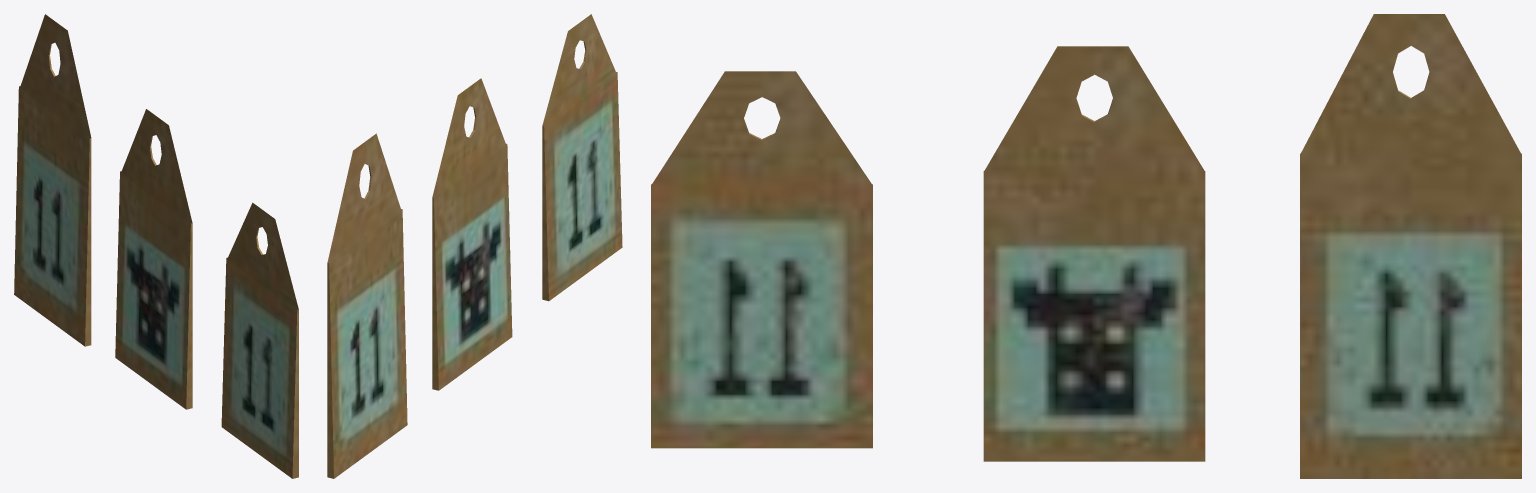
File: tags.fbx
3 renders of one model, left to right at view 1: azimuth 30°, elevation 25°; view 2: azimuth 150°, elevation 25°; view 3: azimuth 270°, elevation 25°, orthographic. The views are drawn at different scales.
Parts seen in each view (by area): view 1: tags.001, tags.002, tags.003; view 2: tags.001, tags.002, tags.003; view 3: tags.001, tags.002, tags.003.
Boxes of the visible parts, <box> form: tags.001: <box>14,14,91,346</box>; tags.002: <box>115,109,192,409</box>; tags.003: <box>221,202,298,478</box>; tags.001: <box>327,133,407,478</box>; tags.002: <box>432,78,512,390</box>; tags.003: <box>542,14,622,301</box>; tags.001: <box>1300,14,1521,478</box>; tags.002: <box>983,46,1205,461</box>; tags.003: <box>651,71,872,448</box>.
Bounding box in the file's own units: 12.01 × 536 × 910.
